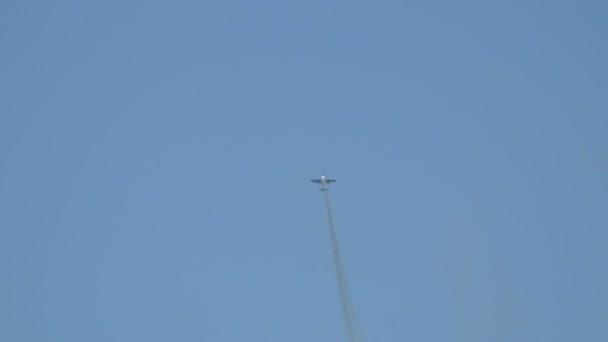Plane: (295, 167, 350, 199)
